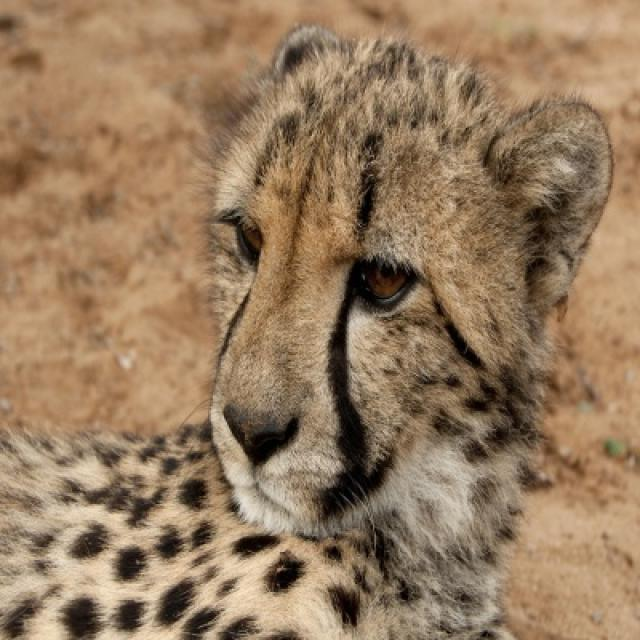Cheetah: (0, 15, 606, 638)
